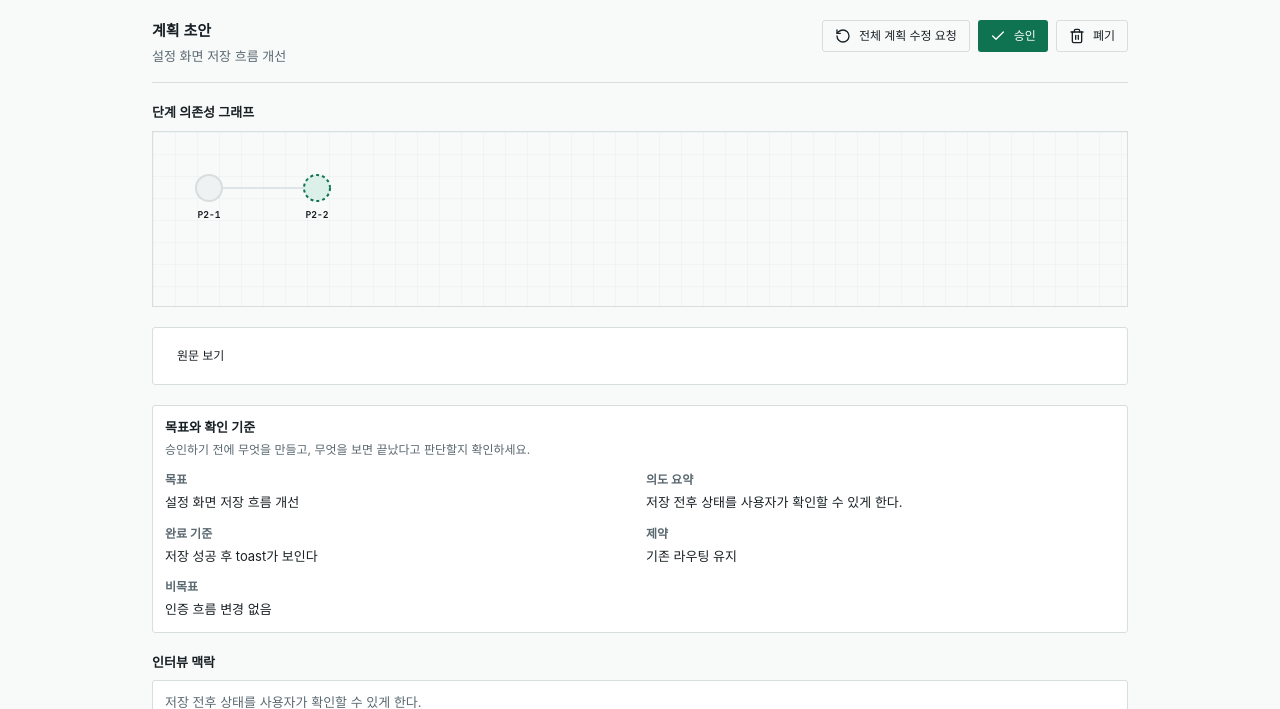
PlanDraftApprovalScreen intent and step review surface › keeps raw generated markdown collapsed until requested
The image size is (1280, 709).
Click the button with test id "plan-draft-raw-toggle". click: (201, 356)
box: [165, 340, 236, 372]
(page scrolled)
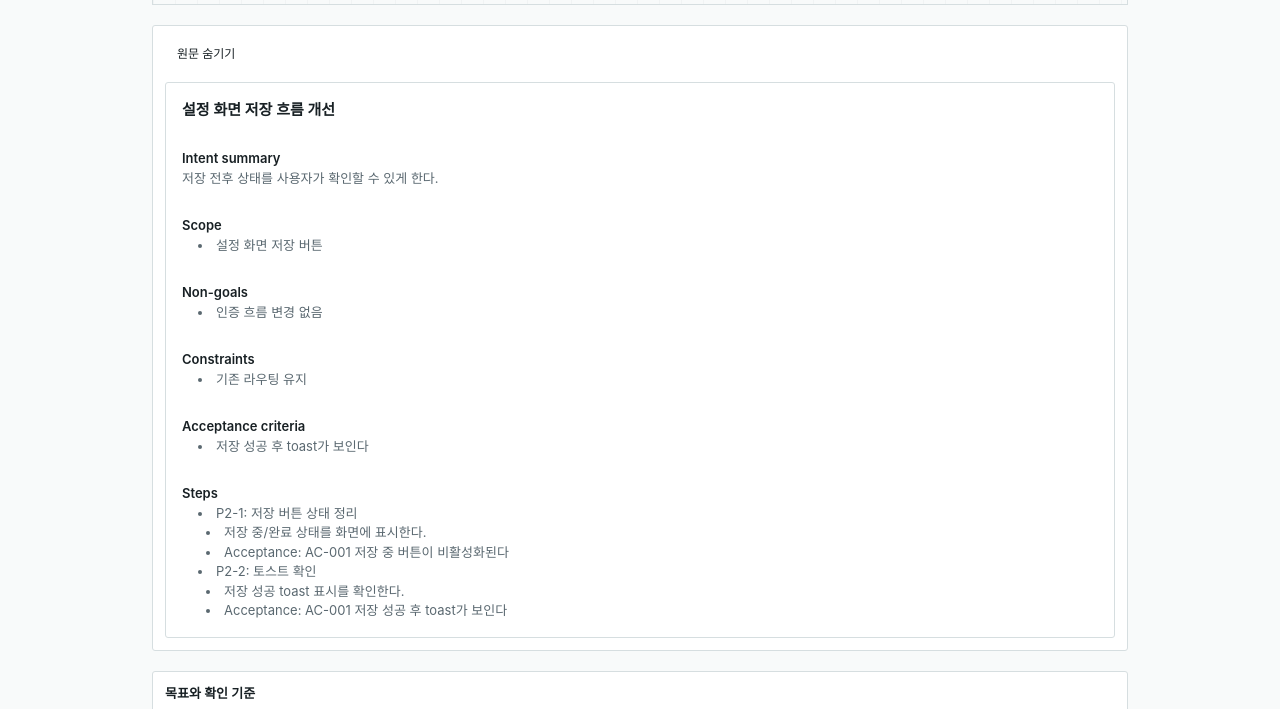
Expected: the element with test id "plan-draft-raw-markdown" is shown, [165, 82, 1115, 638]
